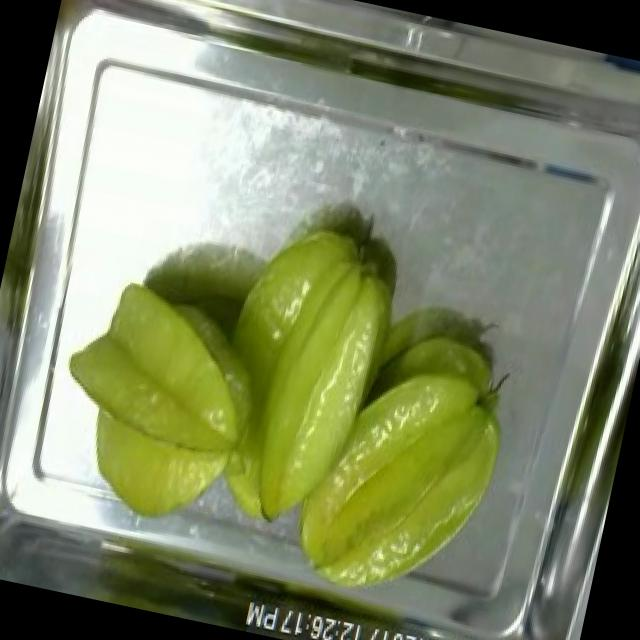fruit: (188, 222, 552, 630), (28, 264, 280, 544)
